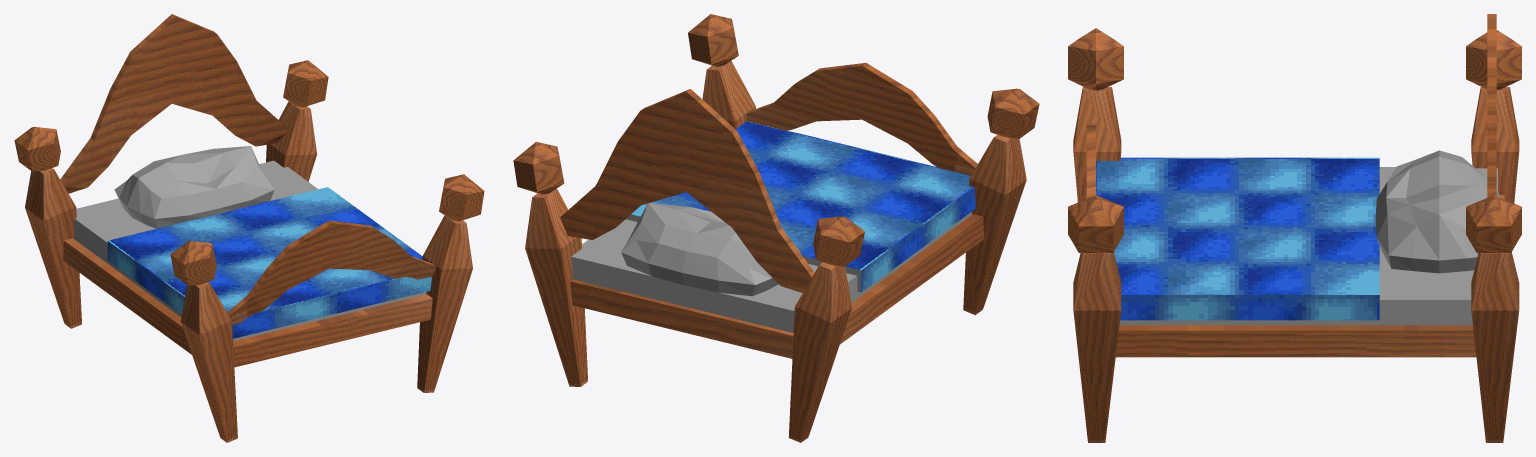
Rendered from BanjosBed.obj.
3 renders of one model, left to right at view 1: azimuth 30°, elevation 25°; view 2: azimuth 150°, elevation 25°; view 3: azimuth 270°, elevation 25°, orthographic. The views are drawn at different scales.
Visible parts, largest first — view 1: 9; view 2: 9; view 3: 9.
Part boxes in pixels (bbox=[...]): 9: bbox=[14, 14, 484, 442]; 9: bbox=[513, 14, 1039, 442]; 9: bbox=[1068, 14, 1521, 442].
Bounding box in the file's own units: 3.5 × 3.18 × 3.58.
Materials: 4 (3 with a texture image).
